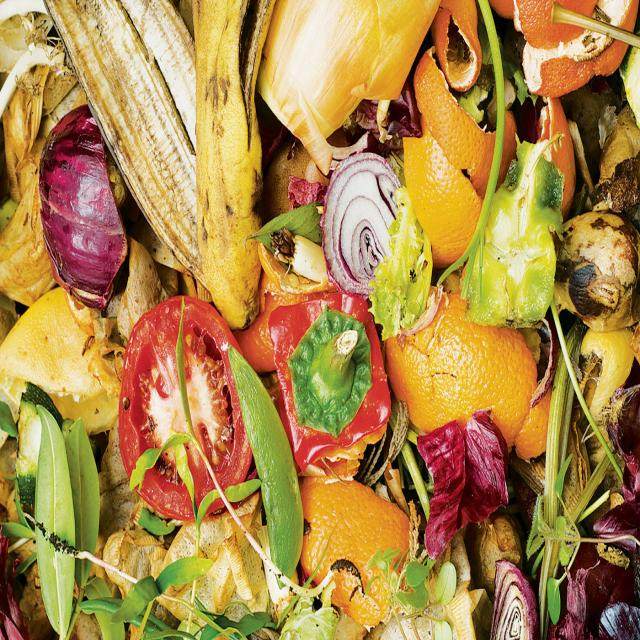fruits - vegetables_waste: (287, 0, 640, 634), (5, 0, 272, 629)
